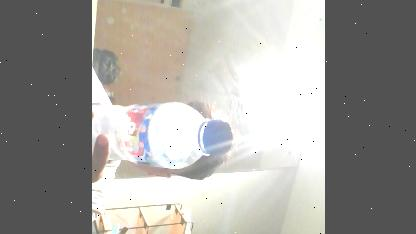Plastic Bottle: (92, 100, 233, 170)
